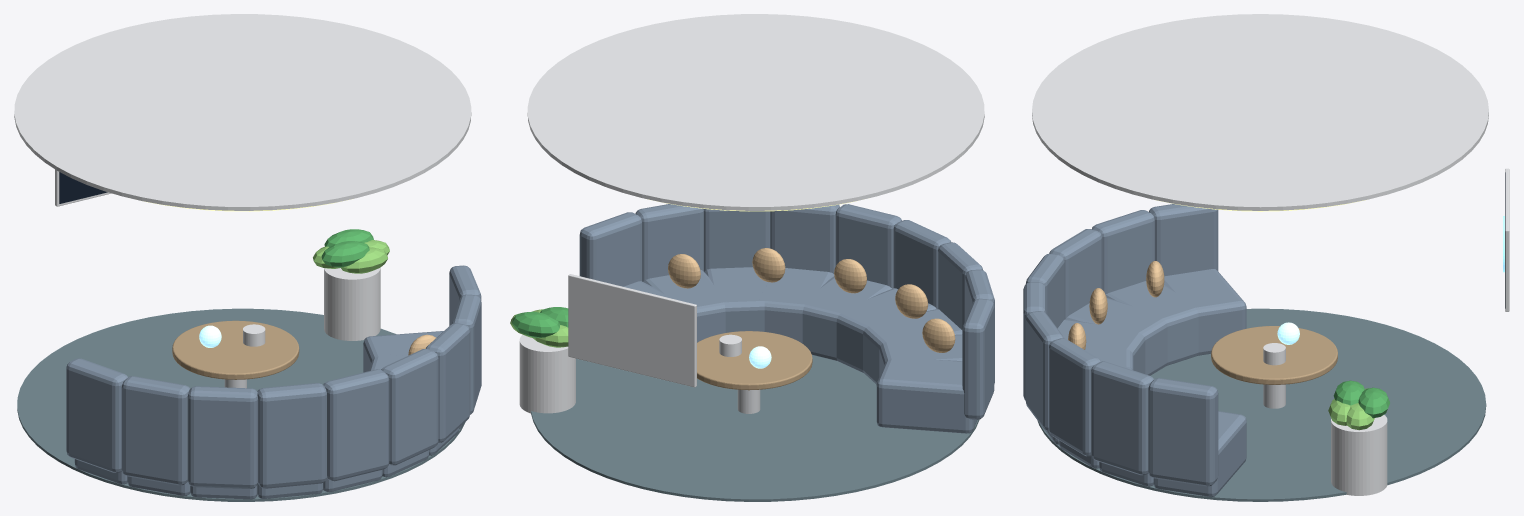
Rendered from stress_lounge.glb.
The picture shows the model from 3 angles, left to right: view 1: azimuth 30°, elevation 25°; view 2: azimuth 150°, elevation 25°; view 3: azimuth 270°, elevation 25°; orthographic projection.
Parts seen in each view (by area): view 1: Ceiling_Ring, Cube (×5); view 2: Ceiling_Ring, Cube (×7); view 3: Ceiling_Ring, Cube (×6).
Boxes of the visible parts, x1,y1,x2,y2 form: Ceiling_Ring: (14,14,481,501); Cube (×5): (74,459,382,499); Ceiling_Ring: (510,14,994,501); Cube (×7): (643,268,977,433); Ceiling_Ring: (1023,14,1509,501); Cube (×6): (1057,269,1246,486).
Bounding box in the file's own units: 3.3 × 2.31 × 3.45.
Materials: 4 (4 with a texture image).
